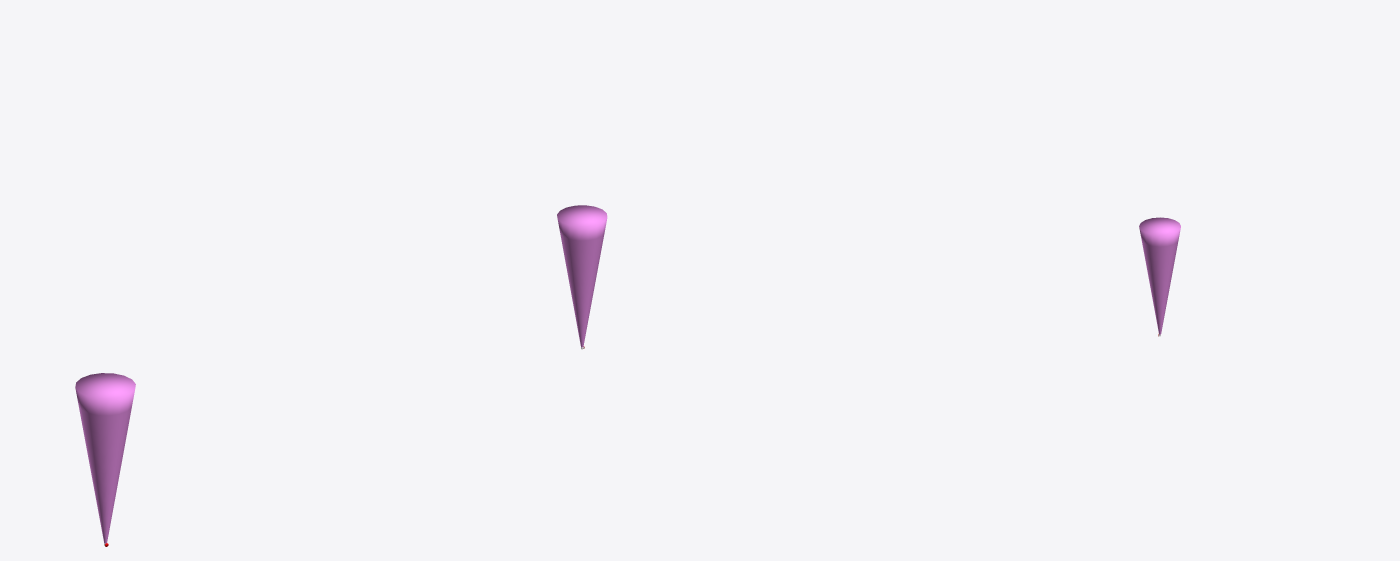
The model's file is MoverLight--RTP-SplitMesh-SingleSided.fbx.
3 renders of one model, left to right at view 1: azimuth 30°, elevation 25°; view 2: azimuth 150°, elevation 25°; view 3: azimuth 270°, elevation 25°, orthographic. The views are drawn at different scales.
Visible parts, largest first — view 1: MoverLightMesh-ProjectionPassMesh-SingleSided; view 2: MoverLightMesh-ProjectionPassMesh-SingleSided; view 3: MoverLightMesh-ProjectionPassMesh-SingleSided.
Boxes of the visible parts, x1,y1,x2,y2 form: MoverLightMesh-ProjectionPassMesh-SingleSided: [75, 373, 135, 543]; MoverLightMesh-ProjectionPassMesh-SingleSided: [557, 205, 607, 347]; MoverLightMesh-ProjectionPassMesh-SingleSided: [1139, 217, 1180, 334].
Bounding box in the file's own units: 30.08 × 30.05 × 32.92.
